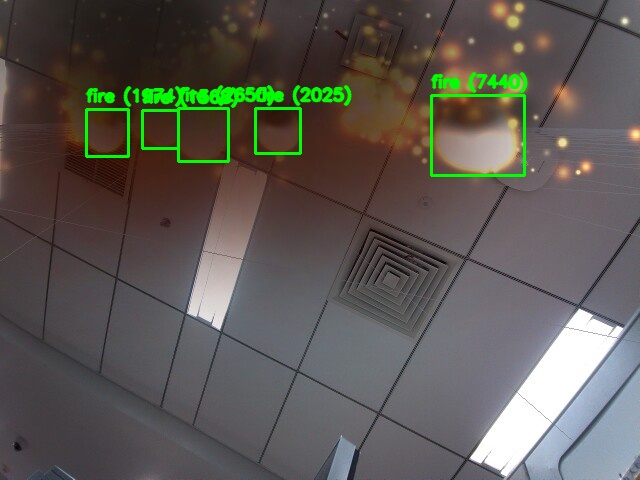fire: (431, 95, 524, 175), (178, 108, 228, 161), (255, 108, 300, 153), (86, 109, 128, 156), (142, 110, 178, 148)
